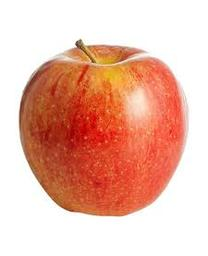apple: (17, 38, 189, 216)
